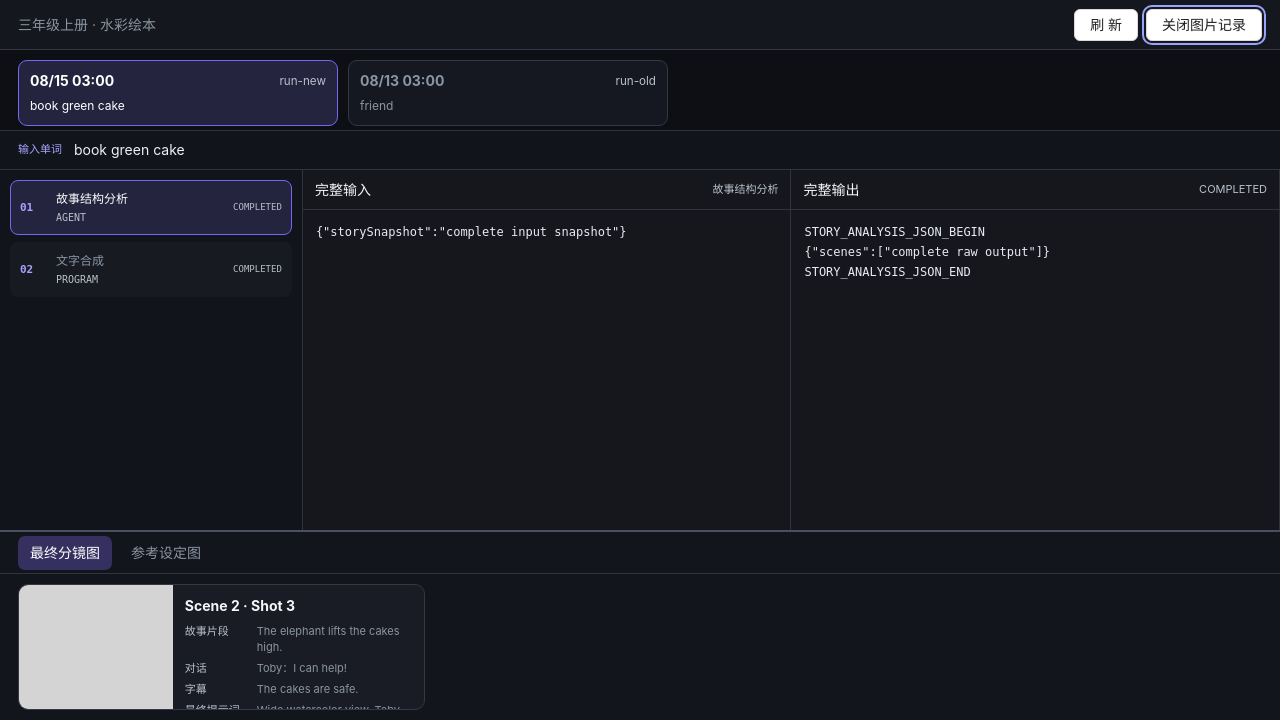
Test: ImageRunHistory › shows newest-first batches, keeps each batch words on one line, and switches the single detail
Expected: the 1st text with class "image-story-history-batch-words" reads "book green cake", [30,98,125,113]
Expected: the 1st text with class "image-story-history-batch-words" has style "whiteSpace: nowrap", [30,98,125,113]
Click the button "08/13 03:00 run-old friend" at point(402, 80), box [348,60,668,126]
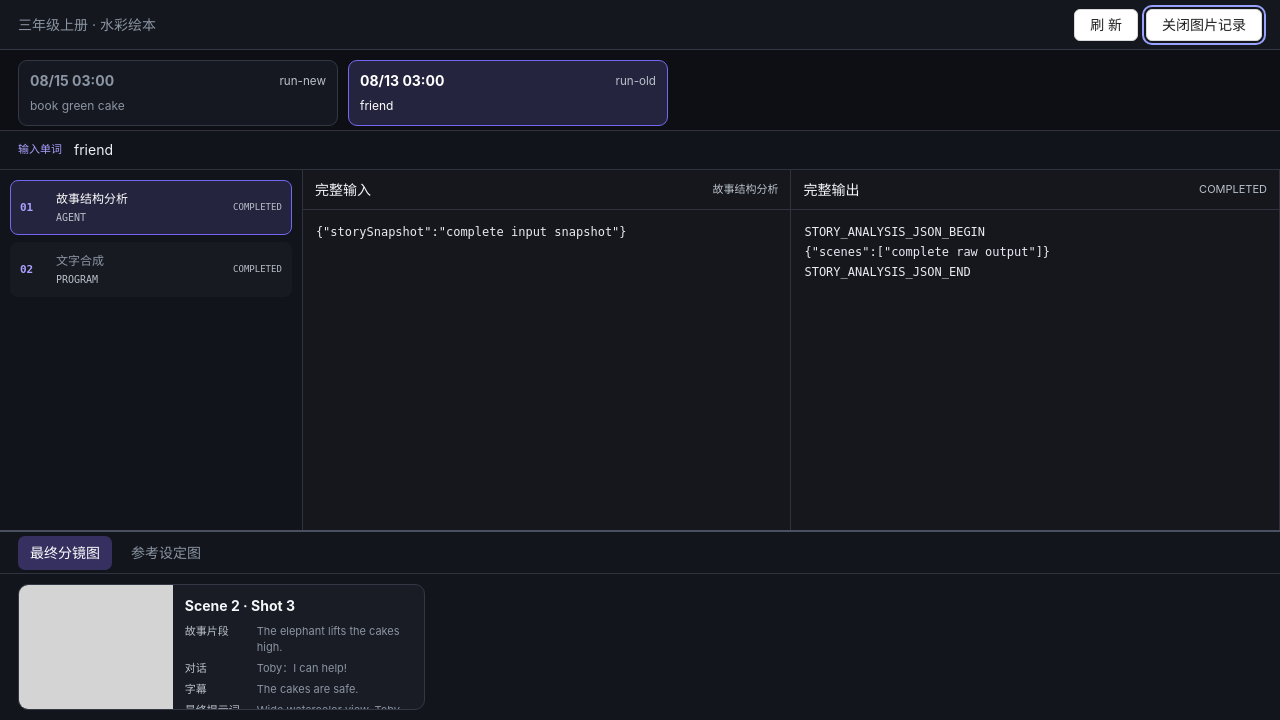
Expected: the element named "当前批次单词" does not show "book", [0,131,1279,170]
Expected: the element named "当前批次单词" shows "friend", [74,141,113,158]
